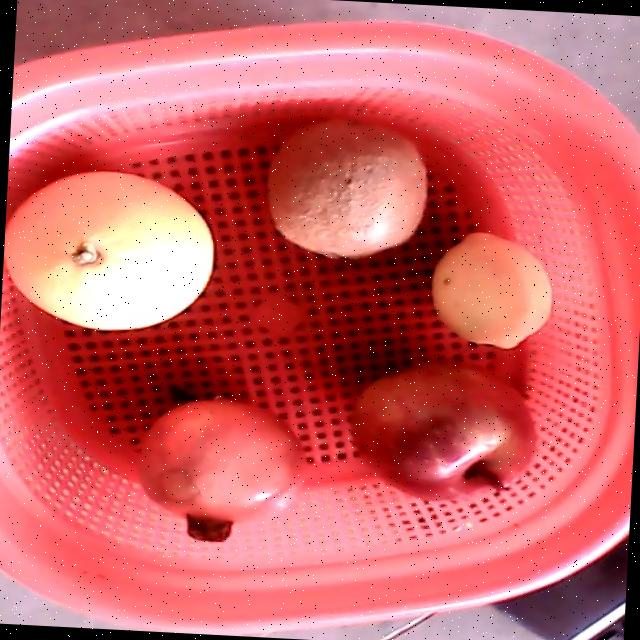apple: (350, 359, 535, 505)
kiwi: (267, 118, 427, 260)
lemon: (430, 232, 552, 349)
orange: (4, 171, 213, 330)
pomegranate: (134, 398, 307, 543)
